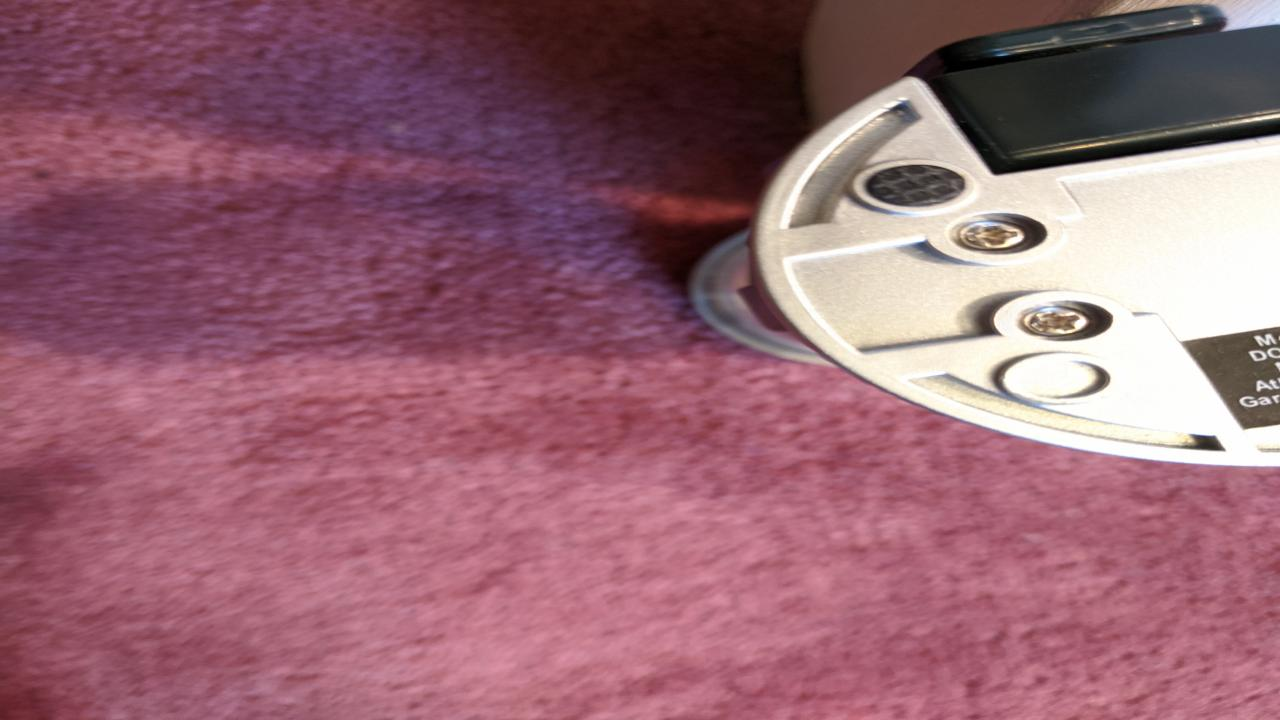CRS: (958, 221, 1027, 250), (1023, 308, 1092, 335)
